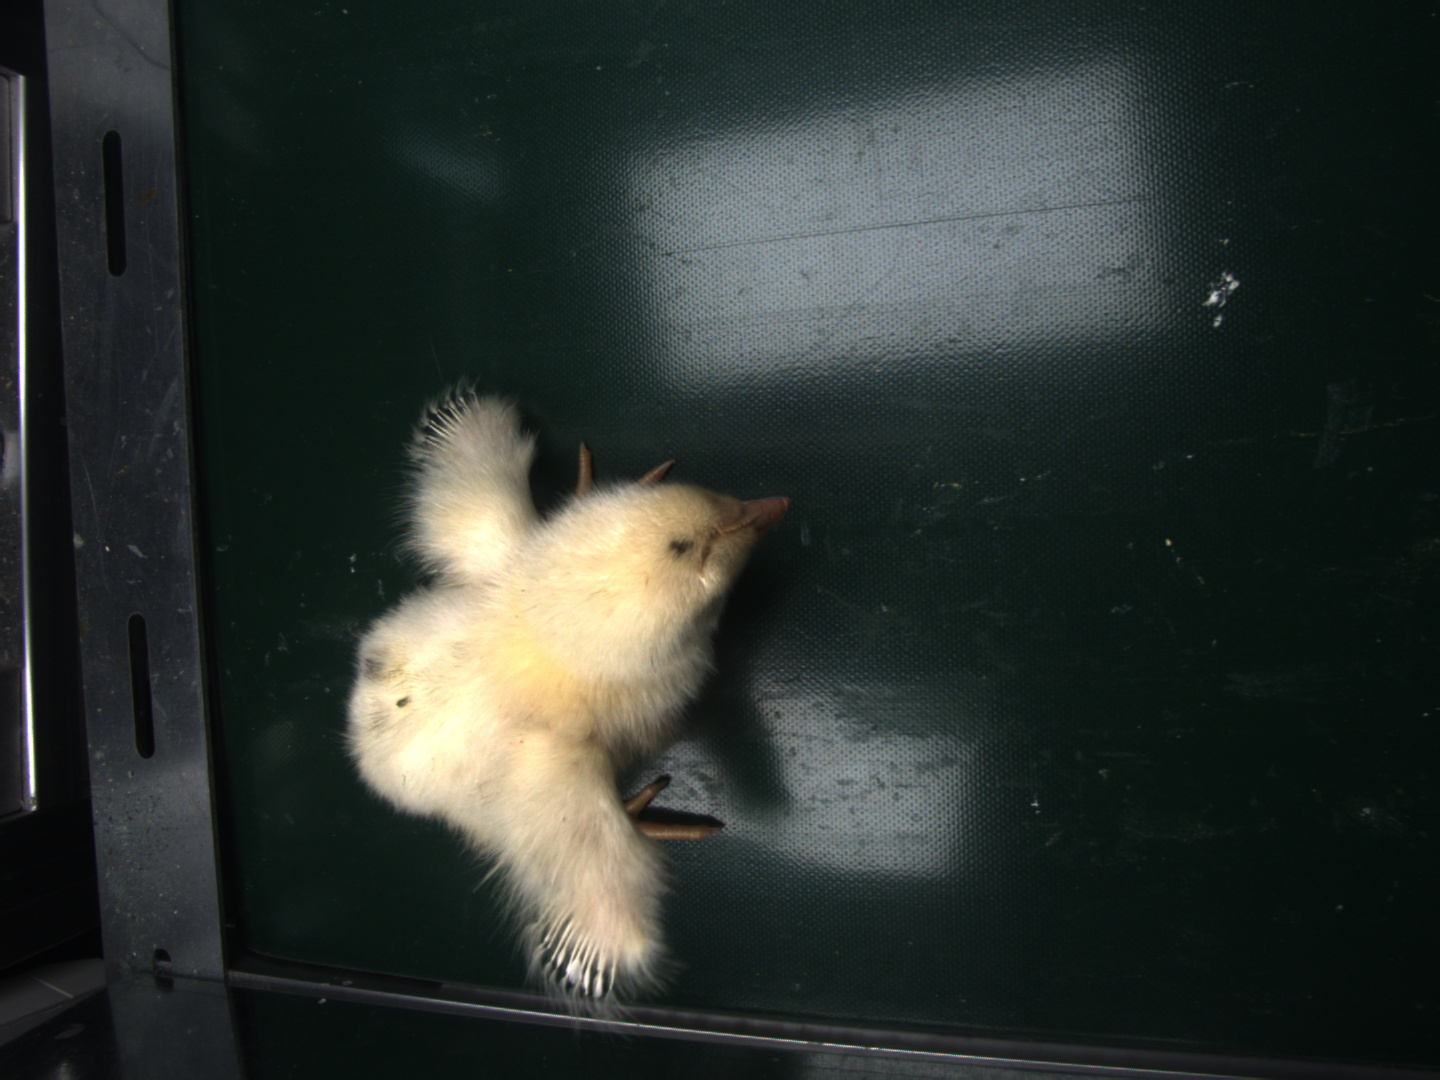male: (537, 911, 622, 1001), (424, 394, 480, 455)
